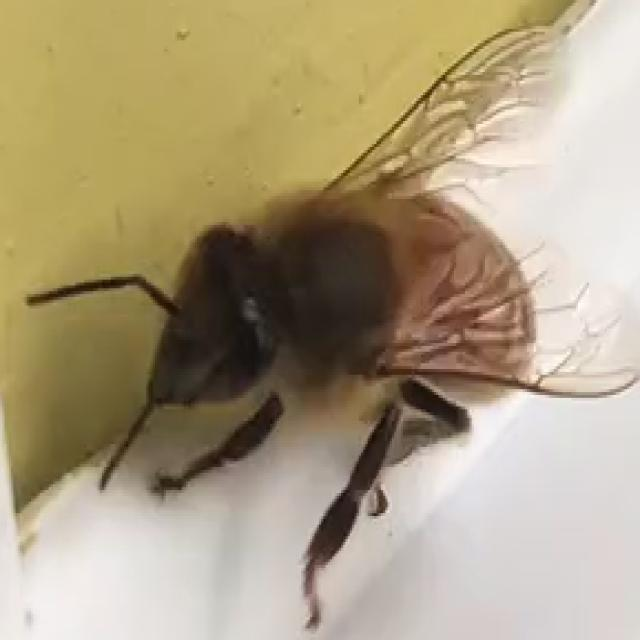honeybee: (84, 63, 640, 623)
